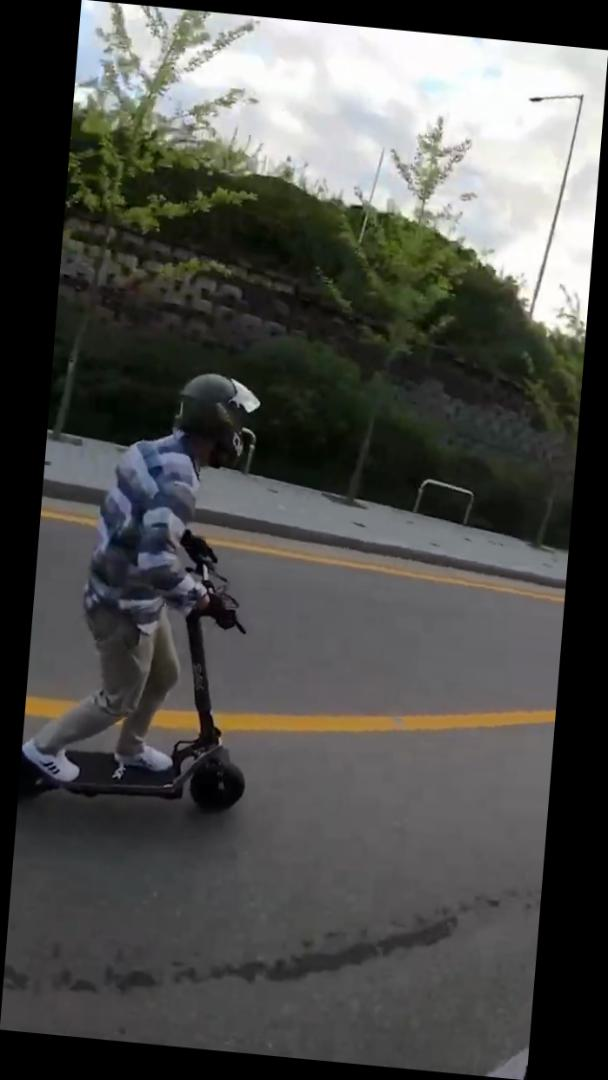helmet: (19, 358, 283, 822)
